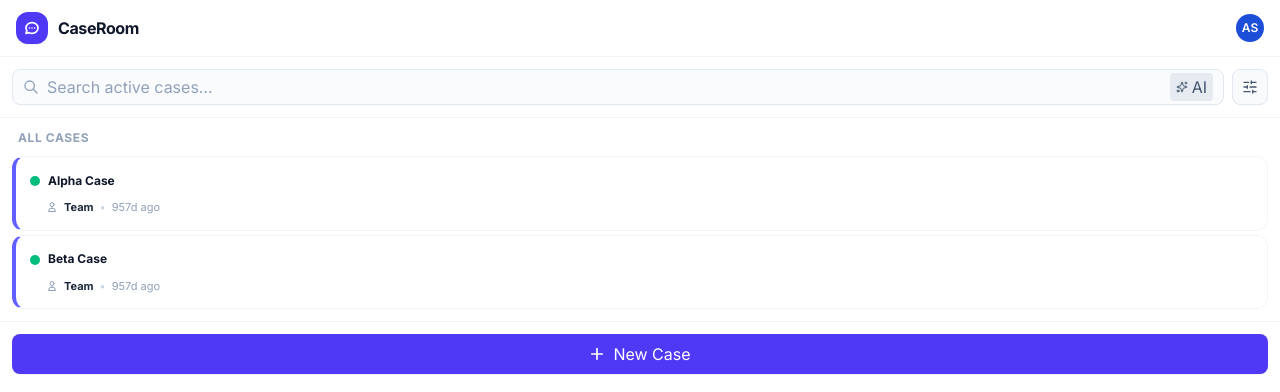
Test case: CaseSidebar — search filter › filters cases by title in real time
The width and height of the screenshot is (1280, 392).
Type "Alpha" into the search field named "filter cases" at (604, 87), box [47,75,1162,99]
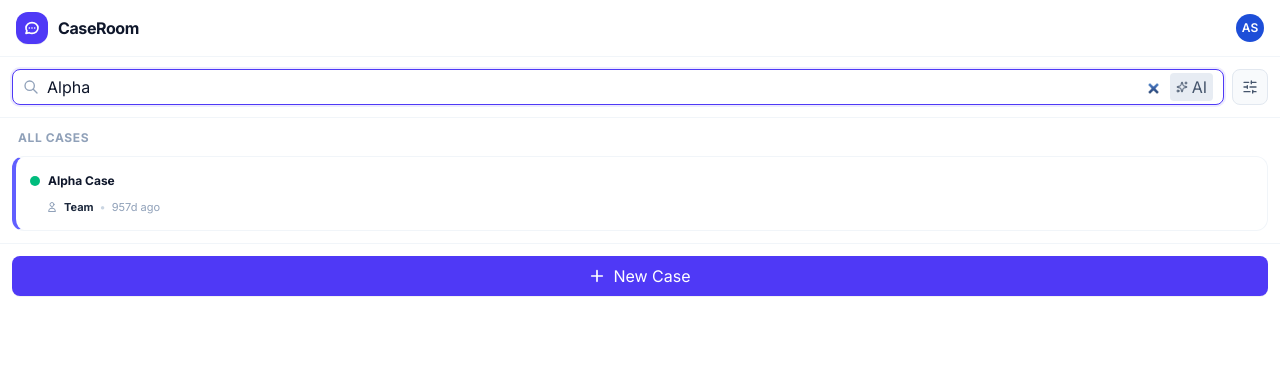
Expected: the text "Alpha Case" is shown, [48,173,115,188]
Now the link "Beta Case" is gone
